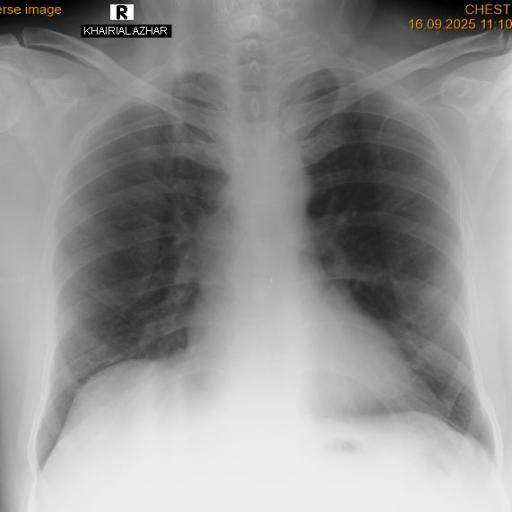kardiomegali: (24, 36, 508, 476)
